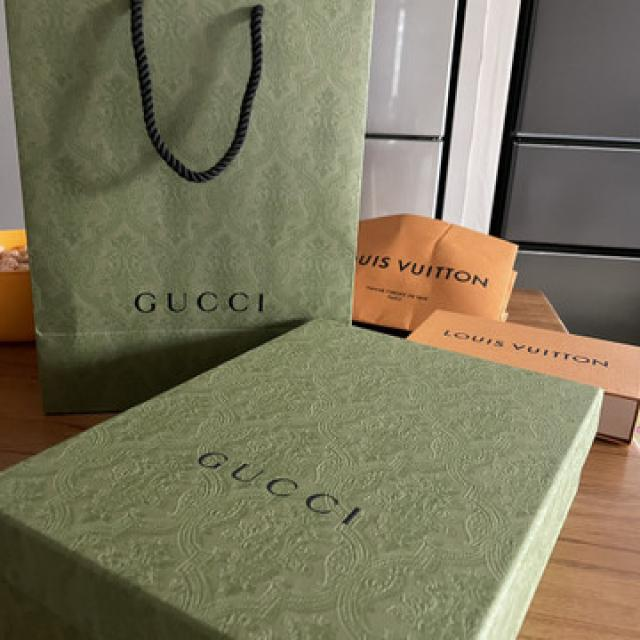paper bag: (0, 314, 606, 634), (4, 0, 383, 322)
